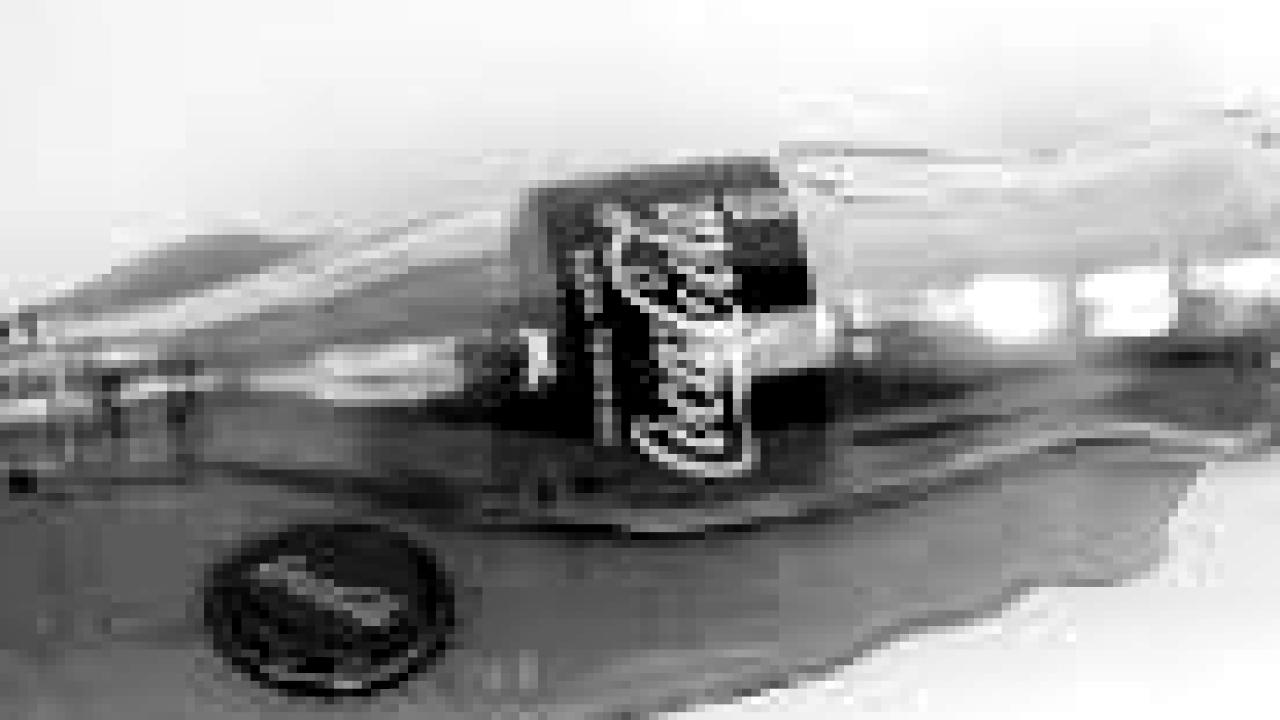drinks Stains: (0, 164, 1122, 719)
